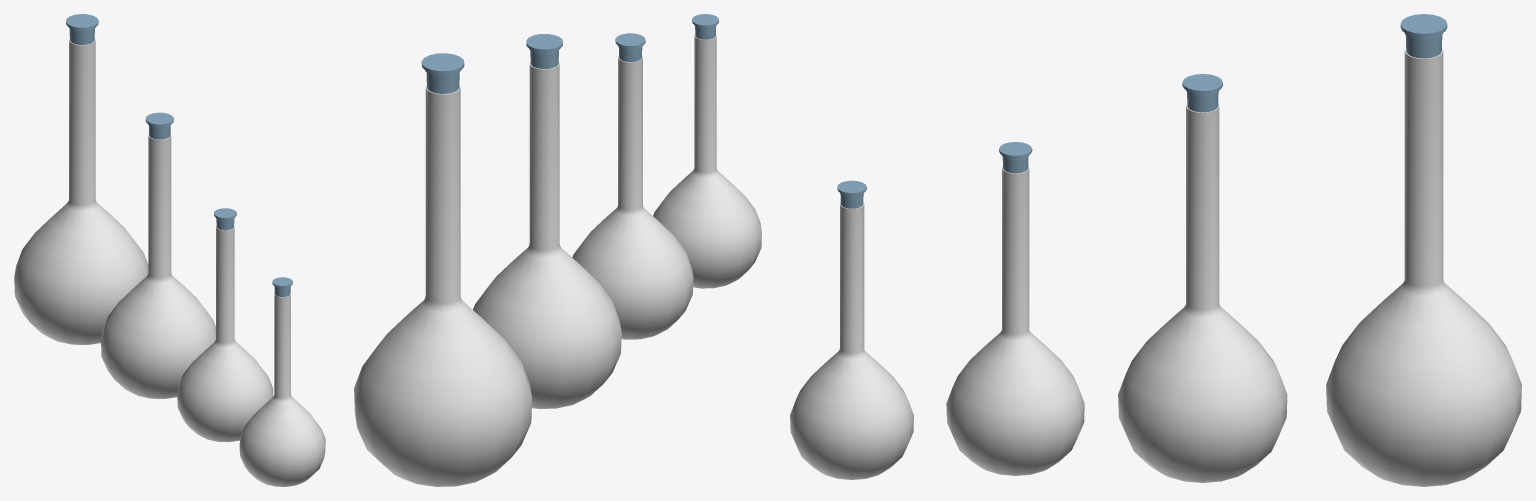
Rendered from Labu Ukur.fbx.
3 renders of one model, left to right at view 1: azimuth 30°, elevation 25°; view 2: azimuth 150°, elevation 25°; view 3: azimuth 270°, elevation 25°, orthographic. The views are drawn at different scales.
Parts seen in each view (by area): view 1: Labu ukur 1000ml, Labu ukur 500ml, Labu ukur 250ml, Labu ukur 100ml, Cover Labu ukur 1000ml, Cover Labu ukur 500ml, Cover Labu ukur 250ml, Cover Labu ukur 100ml; view 2: Labu ukur 1000ml, Labu ukur 500ml, Labu ukur 250ml, Labu ukur 100ml, Cover Labu ukur 1000ml, Cover Labu ukur 500ml, Cover Labu ukur 250ml, Cover Labu ukur 100ml; view 3: Labu ukur 1000ml, Labu ukur 500ml, Labu ukur 250ml, Labu ukur 100ml, Cover Labu ukur 1000ml, Cover Labu ukur 500ml, Cover Labu ukur 250ml.
Boxes of the visible parts, x1=… form: Labu ukur 1000ml: x1=14, y1=38, x2=148, y2=344; Labu ukur 500ml: x1=101, y1=134, x2=215, y2=398; Labu ukur 250ml: x1=177, y1=225, x2=273, y2=442; Labu ukur 100ml: x1=239, y1=293, x2=325, y2=486; Cover Labu ukur 1000ml: x1=66, y1=14, x2=98, y2=44; Cover Labu ukur 500ml: x1=145, y1=112, x2=173, y2=139; Cover Labu ukur 250ml: x1=214, y1=208, x2=236, y2=230; Cover Labu ukur 100ml: x1=272, y1=277, x2=292, y2=296; Labu ukur 1000ml: x1=354, y1=85, x2=532, y2=486; Labu ukur 500ml: x1=473, y1=61, x2=621, y2=408; Labu ukur 250ml: x1=572, y1=56, x2=693, y2=339; Labu ukur 100ml: x1=653, y1=34, x2=761, y2=288; Cover Labu ukur 1000ml: x1=421, y1=53, x2=464, y2=93; Cover Labu ukur 500ml: x1=526, y1=34, x2=562, y2=68; Cover Labu ukur 250ml: x1=615, y1=33, x2=645, y2=61; Cover Labu ukur 100ml: x1=692, y1=14, x2=718, y2=39; Labu ukur 1000ml: x1=1326, y1=48, x2=1521, y2=486; Labu ukur 500ml: x1=1118, y1=104, x2=1287, y2=482; Labu ukur 250ml: x1=946, y1=166, x2=1084, y2=475; Labu ukur 100ml: x1=790, y1=203, x2=913, y2=479; Cover Labu ukur 1000ml: x1=1400, y1=14, x2=1447, y2=58; Cover Labu ukur 500ml: x1=1182, y1=74, x2=1222, y2=112; Cover Labu ukur 250ml: x1=999, y1=142, x2=1032, y2=173.
Size of the model in its own units: 16.62 by 41.38 by 62.11.
8 materials, 4 textured.
